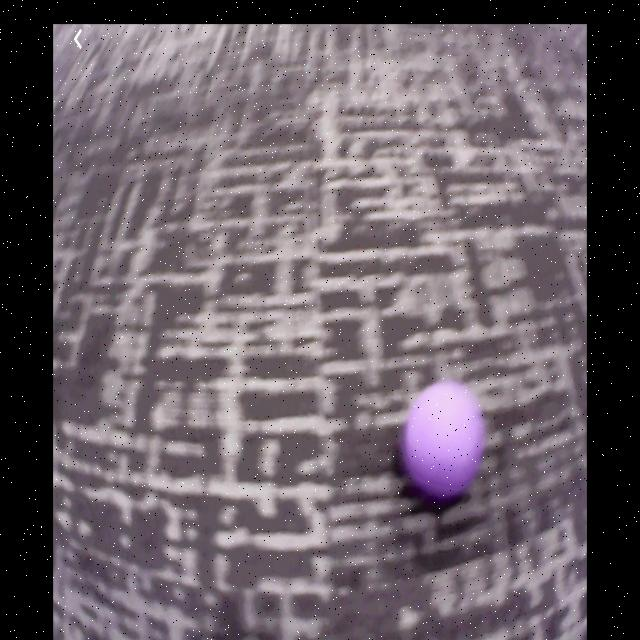ball: (404, 381, 484, 493)
